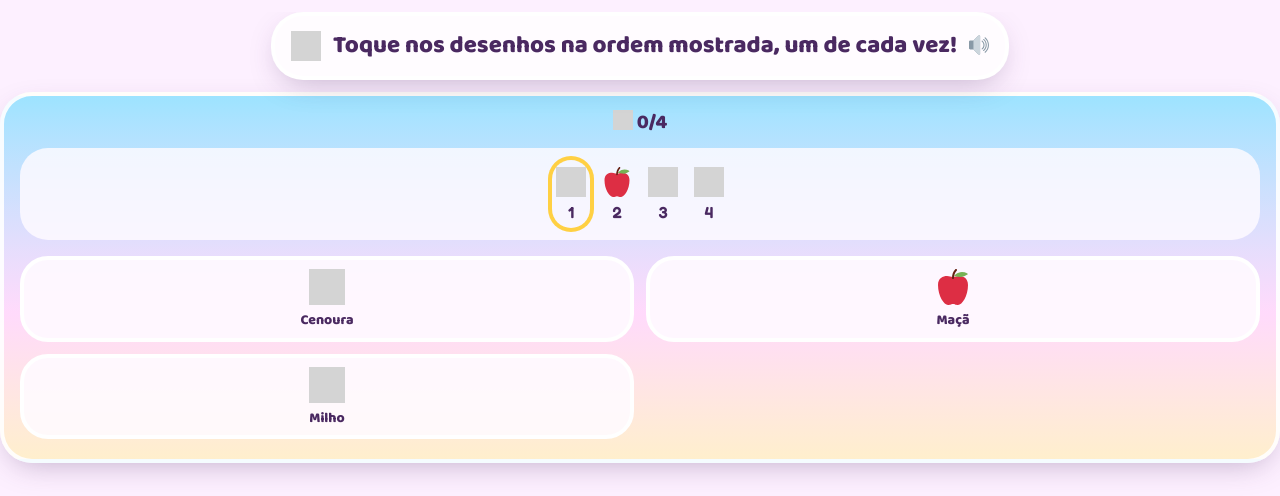
Test: controles das novas mecânicas › conclui sequence pelos botões visíveis uma única vez
Click the button "Cenoura": (327, 299) [20, 256, 634, 342]
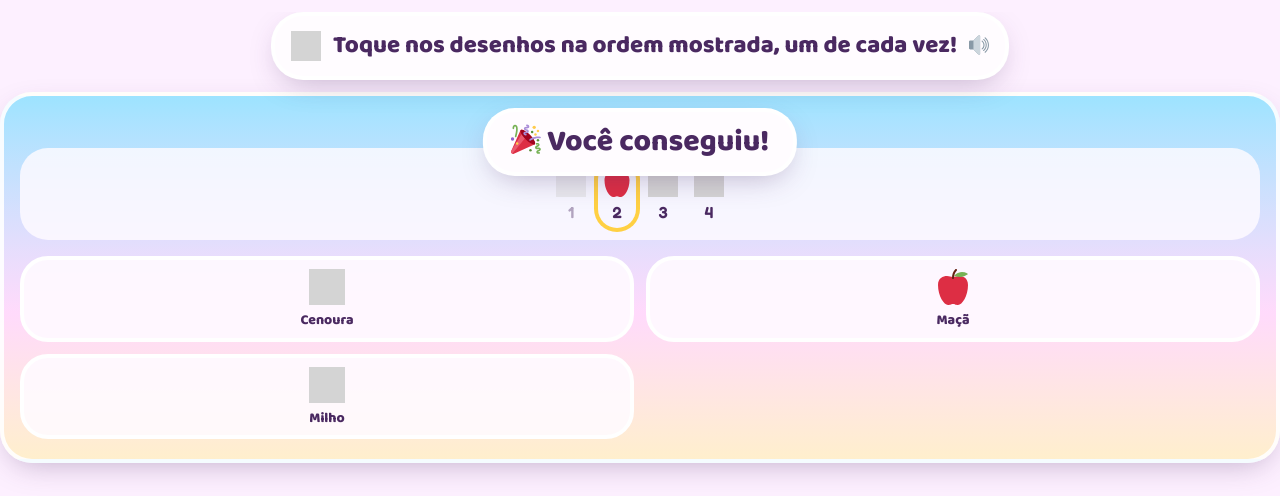
Click the button "Maçã": (953, 299) [646, 256, 1260, 342]
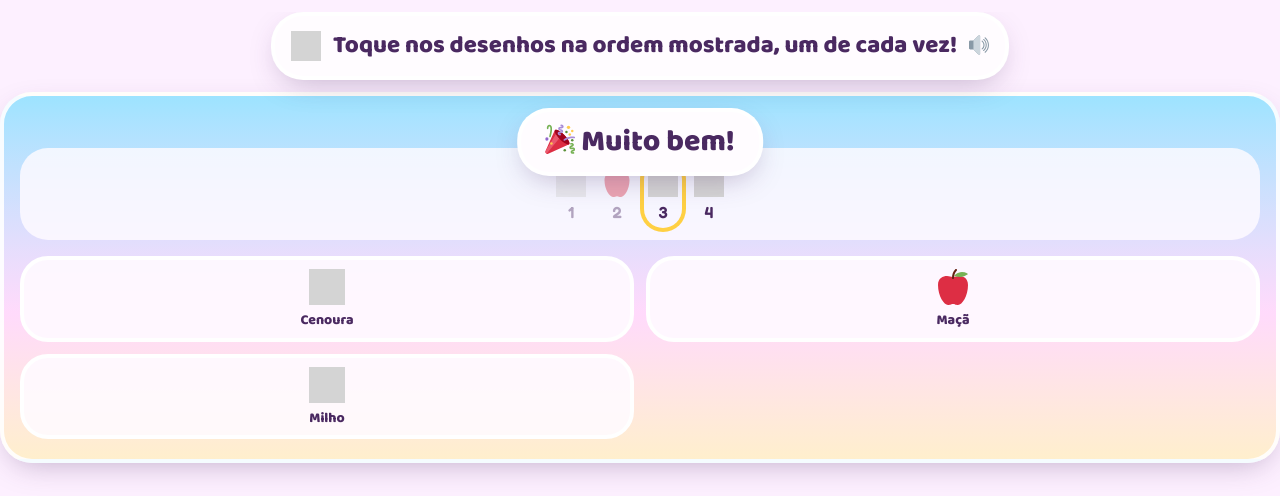
Click the button "Milho": (327, 396) [20, 354, 634, 439]
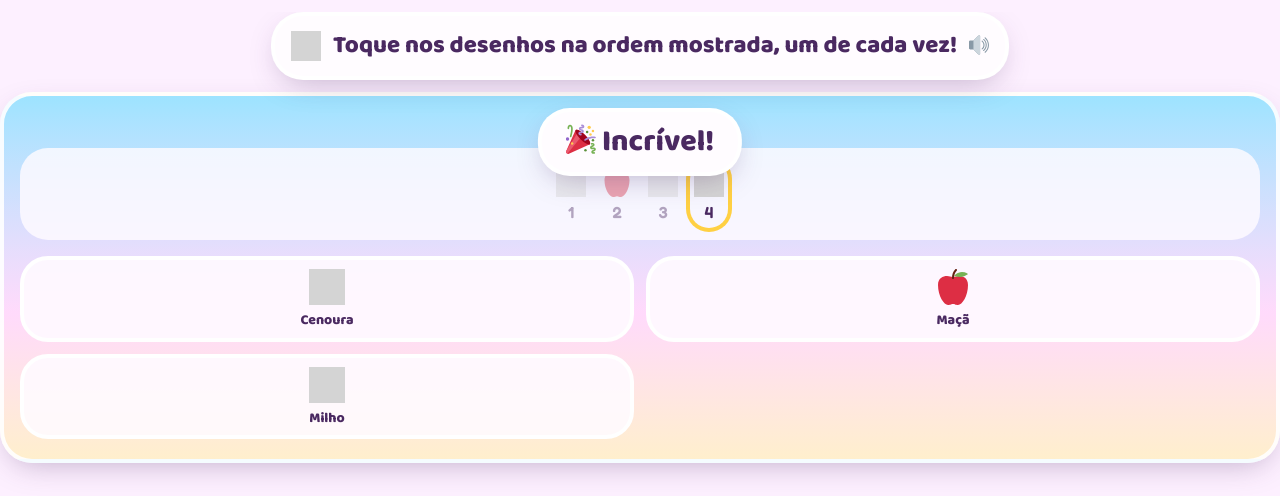
Click the button "Cenoura": (327, 299) [20, 256, 634, 342]
Wait 4700 ms
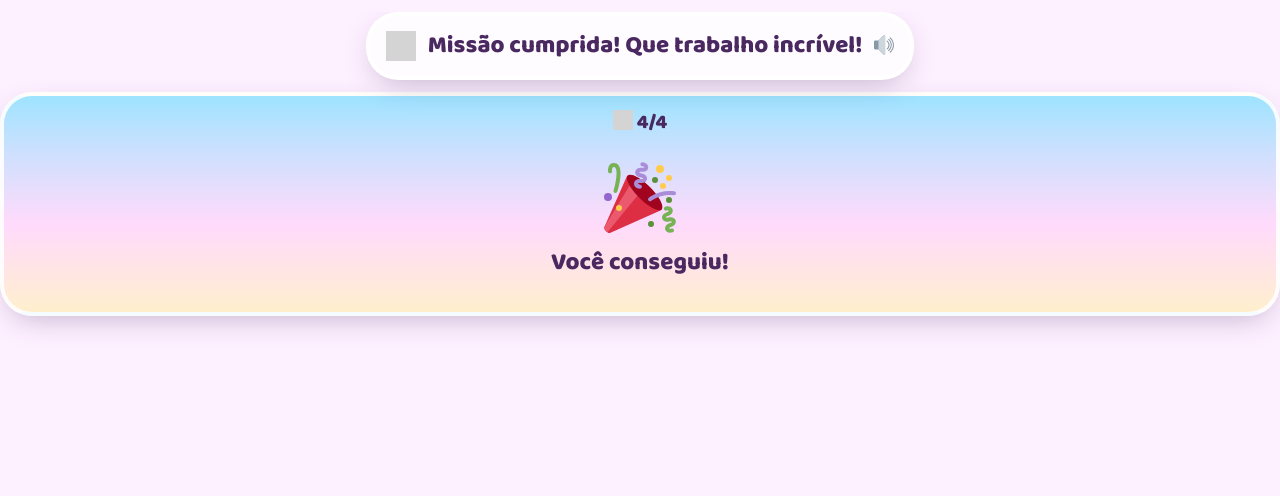
Expected: the message reads "4/4", [613, 106, 667, 138]
